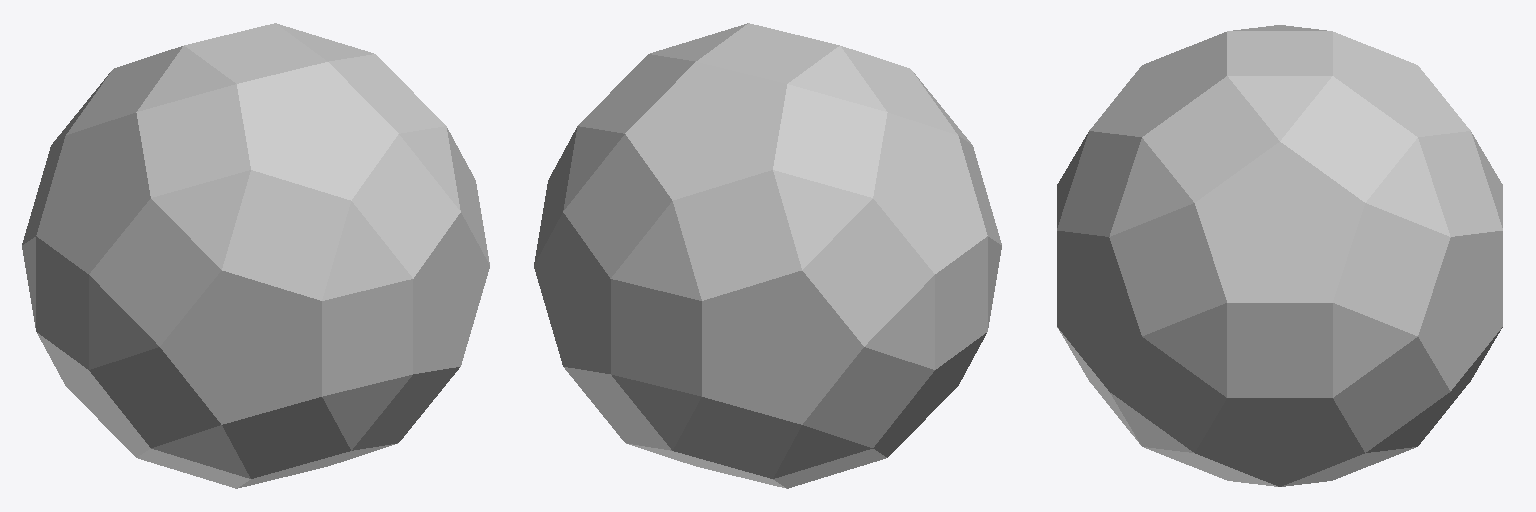
File: SmallRhombicosidodecahedronTriangle.obj
3 renders of one model, left to right at view 1: azimuth 30°, elevation 25°; view 2: azimuth 150°, elevation 25°; view 3: azimuth 270°, elevation 25°, orthographic.
Visible parts, largest first — view 1: <STL_BINARY>; view 2: <STL_BINARY>; view 3: <STL_BINARY>.
Part boxes in pixels (x1,y1,x2,y2): <STL_BINARY>: (22,23,489,488); <STL_BINARY>: (534,23,1001,488); <STL_BINARY>: (1057,25,1502,486).
Bounding box in the file's own units: 4.24 × 4.24 × 4.24.